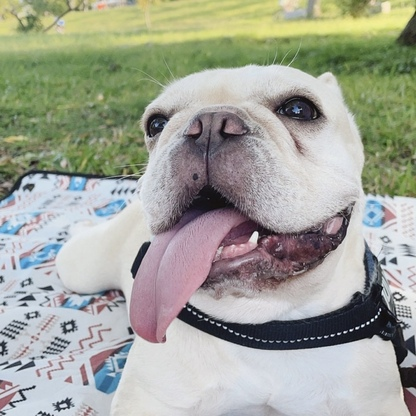bulldog: (107, 62, 415, 416)
